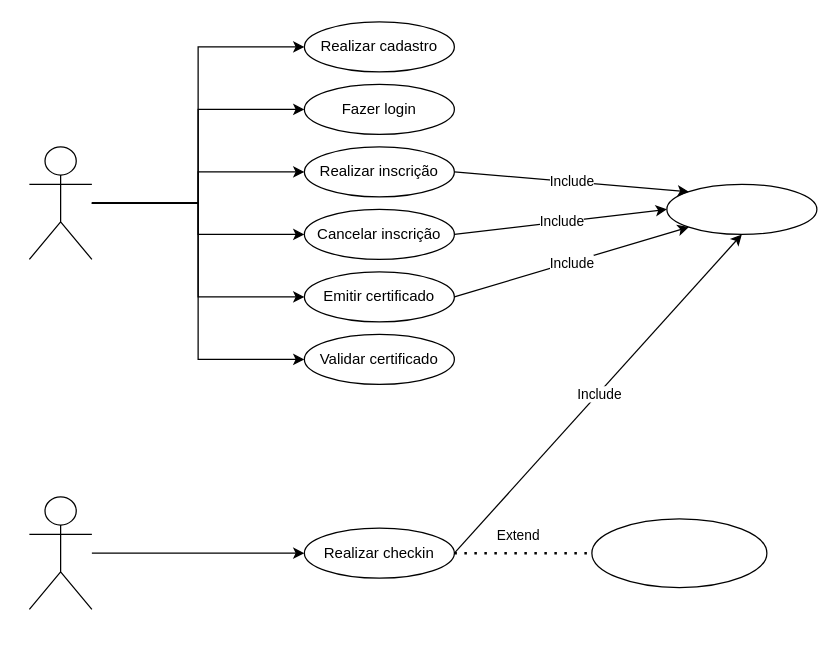
Some shapes in this 839 by 658 pixel diagram are drawn without their labels. Here are the shapes that lost their labels. From the top down, the box of each, then its label:
(28, 146, 92, 259): Cliente
(666, 183, 817, 234): Enviar e-mail
(28, 496, 92, 609): Funcionário
(591, 518, 767, 588): Realizar cadastro de cliente
